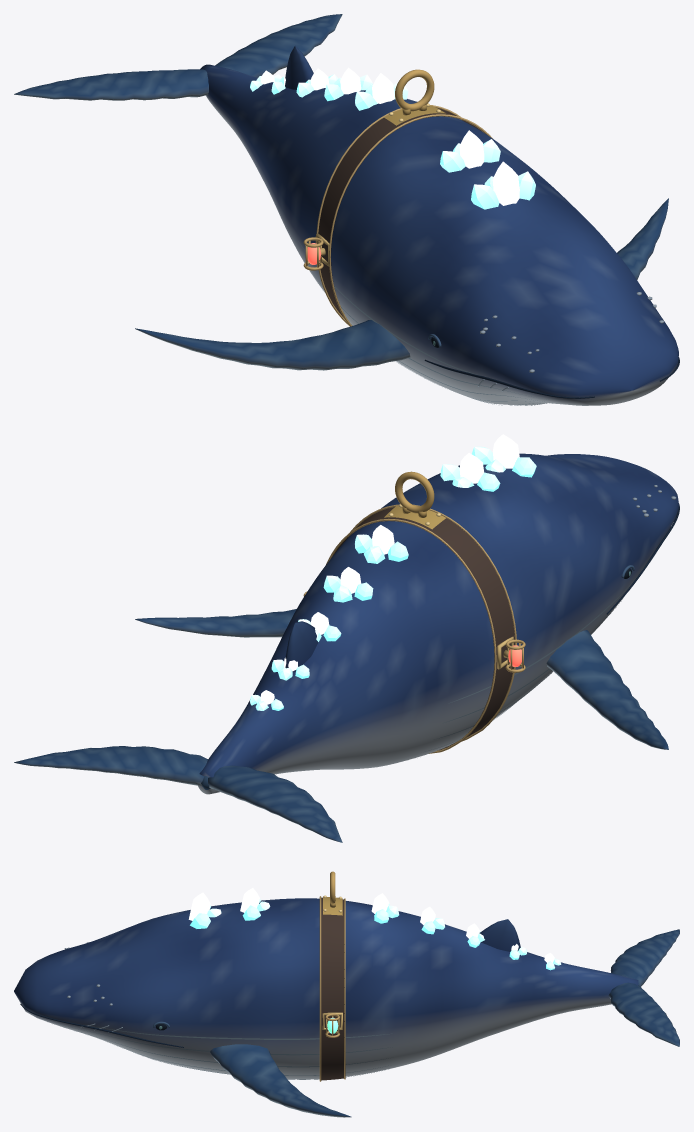
Rendered from ballena-celeste-DU5M42xb.glb.
3 views of the same model, one above another, from view 1: azimuth 30°, elevation 25°; view 2: azimuth 150°, elevation 25°; view 3: azimuth 270°, elevation 25° (orthographic). The views are drawn at different scales.
Parts seen in each view (by area): view 1: Ballena_Cuerpo_Central, Aleta_Cola, Aleta_Pectoral_Izq, Aleta_Pectoral_Der; view 2: Ballena_Cuerpo_Central, Aleta_Cola, Aleta_Pectoral_Izq, Aleta_Pectoral_Der; view 3: Ballena_Cuerpo_Central, Aleta_Cola, Aleta_Pectoral_Der.
Part boxes in pixels (box(x1,y1,x2,y2)): Ballena_Cuerpo_Central: box(200, 46, 679, 405); Aleta_Cola: box(14, 14, 342, 100); Aleta_Pectoral_Izq: box(135, 320, 410, 370); Aleta_Pectoral_Der: box(617, 198, 668, 279); Ballena_Cuerpo_Central: box(198, 434, 679, 794); Aleta_Cola: box(14, 746, 342, 842); Aleta_Pectoral_Izq: box(546, 630, 668, 749); Aleta_Pectoral_Der: box(135, 609, 296, 637); Ballena_Cuerpo_Central: box(14, 871, 638, 1081); Aleta_Cola: box(608, 929, 679, 1046); Aleta_Pectoral_Der: box(210, 1044, 351, 1117).
Bounding box in the file's own units: 17 × 8.41 × 25.07.
